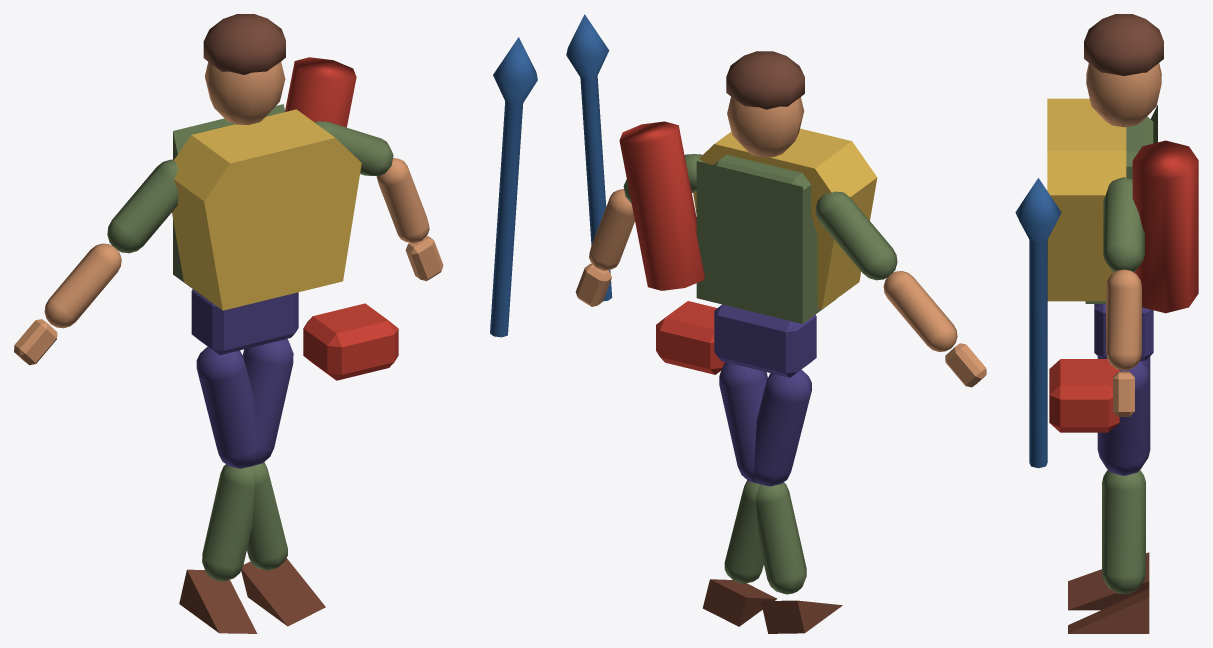
The model's file is adventurer.rustic.glb.
3 renders of one model, left to right at view 1: azimuth 30°, elevation 25°; view 2: azimuth 150°, elevation 25°; view 3: azimuth 270°, elevation 25°, orthographic. The views are drawn at different scales.
Visible parts, largest first — view 1: accessory.body, accessory.main-hand, accessory.waist, thigh.left, pelvis, shin.right, hair, thigh.right, accessory.back, upper-arm.left, head, forearm.left (+8 smaller); view 2: tunic, accessory.back, accessory.body, pelvis, thigh.left, accessory.main-hand, shin.right, upper-arm.left, hair, accessory.waist, thigh.right, head (+8 smaller); view 3: accessory.body, accessory.back, accessory.main-hand, shin.left, accessory.waist, hair, head, thigh.right, forearm.right, upper-arm.right, foot.left, foot.right (+3 smaller).
Part boxes in pixels (x1=…): accessory.body: x1=172, y1=109, x2=361, y2=310; accessory.main-hand: x1=490, y1=37, x2=537, y2=337; accessory.waist: x1=303, y1=303, x2=398, y2=380; thigh.left: x1=196, y1=346, x2=256, y2=468; pelvis: x1=191, y1=289, x2=298, y2=354; shin.right: x1=202, y1=464, x2=254, y2=581; hair: x1=203, y1=14, x2=285, y2=74; thigh.right: x1=242, y1=339, x2=293, y2=465; accessory.back: x1=285, y1=57, x2=356, y2=127; upper-arm.left: x1=107, y1=159, x2=178, y2=253; head: x1=204, y1=61, x2=285, y2=124; forearm.left: x1=44, y1=243, x2=121, y2=328; tunic: x1=696, y1=161, x2=836, y2=323; accessory.back: x1=619, y1=121, x2=704, y2=290; accessory.body: x1=693, y1=128, x2=877, y2=309; pelvis: x1=714, y1=304, x2=816, y2=377; thigh.left: x1=754, y1=369, x2=811, y2=486; accessory.main-hand: x1=566, y1=14, x2=612, y2=301; shin.right: x1=756, y1=482, x2=806, y2=594; upper-arm.left: x1=815, y1=191, x2=897, y2=280; hair: x1=726, y1=51, x2=804, y2=109; accessory.waist: x1=656, y1=301, x2=724, y2=374; thigh.right: x1=719, y1=362, x2=767, y2=483; head: x1=727, y1=97, x2=803, y2=157; accessory.body: x1=1047, y1=98, x2=1126, y2=301; accessory.back: x1=1132, y1=140, x2=1198, y2=313; accessory.main-hand: x1=1015, y1=178, x2=1061, y2=468; shin.left: x1=1102, y1=471, x2=1145, y2=593; accessory.waist: x1=1049, y1=359, x2=1119, y2=432; hair: x1=1084, y1=14, x2=1163, y2=75; head: x1=1086, y1=63, x2=1161, y2=127; thigh.right: x1=1097, y1=361, x2=1150, y2=475; forearm.right: x1=1106, y1=269, x2=1141, y2=370; upper-arm.right: x1=1103, y1=177, x2=1144, y2=272; foot.left: x1=1068, y1=589, x2=1149, y2=633; foot.right: x1=1068, y1=552, x2=1149, y2=610.
Bounding box in the file's own units: 2.54 × 3.01 × 0.8353.
